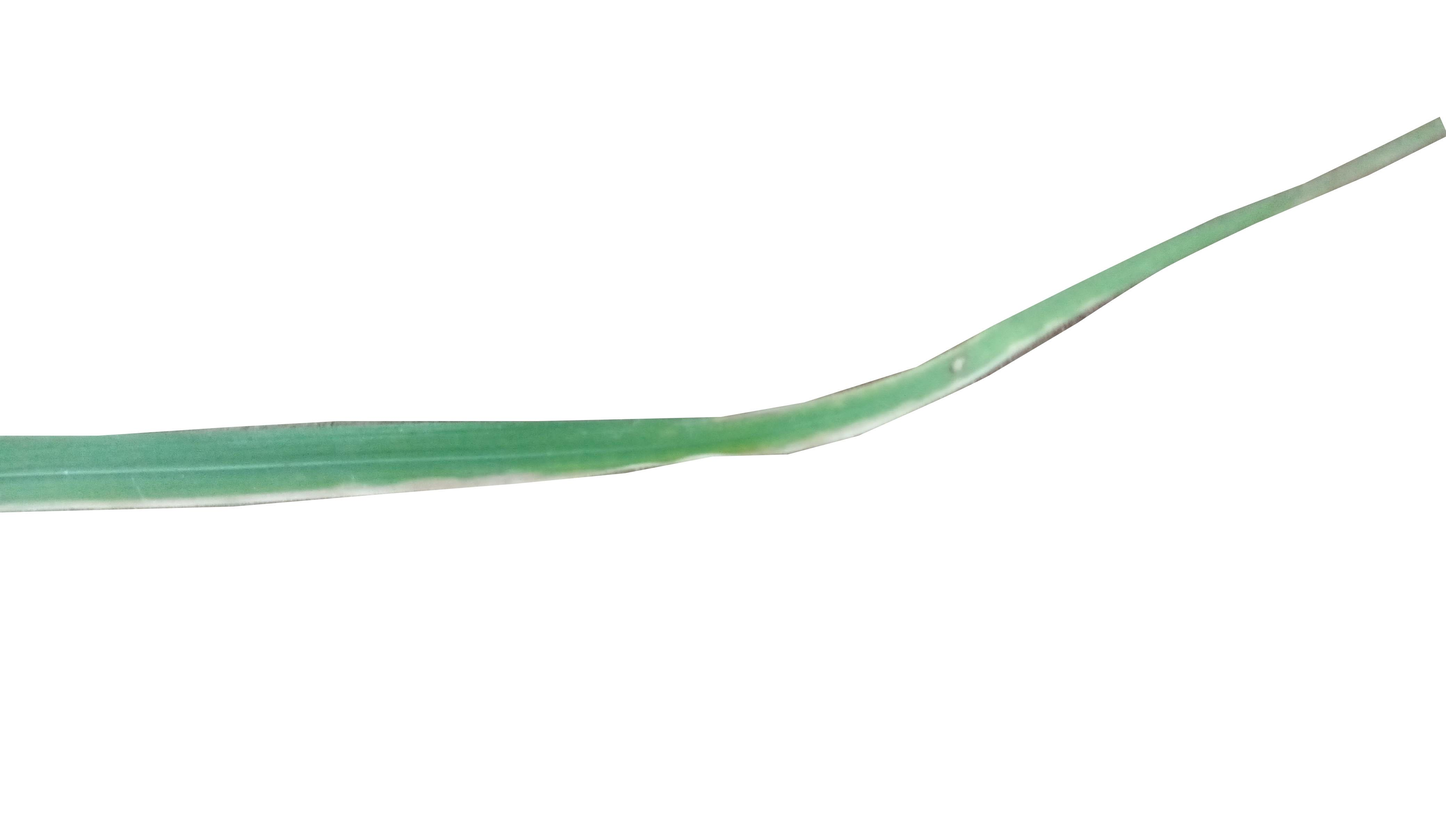Blight: (440, 469, 541, 488), (945, 351, 968, 384)
